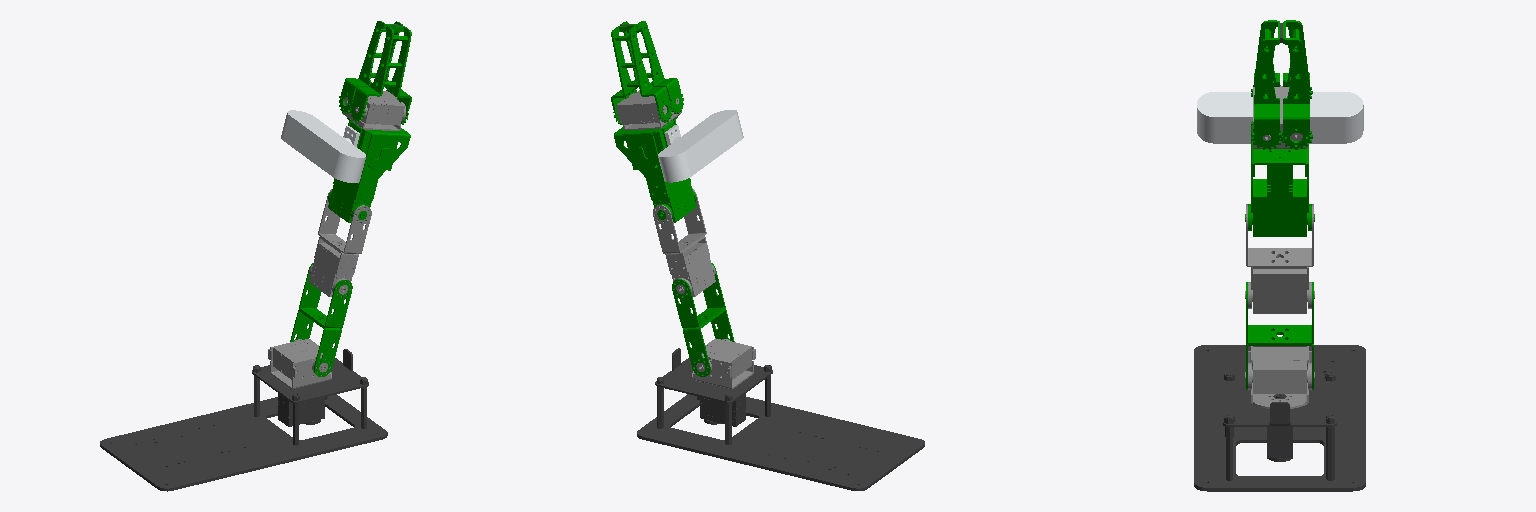
robot.urdf — arm5dof:
<?xml version="1.0" encoding="utf-8"?>
<!-- This URDF was automatically created by SolidWorks to URDF Exporter! Originally created by Stephen Brawner (brawner@gmail.com) 
     Commit Version: 1.6.0-4-g7f85cfe  Build Version: 1.6.7995.38578
     For more information, please see http://wiki.ros.org/sw_urdf_exporter -->
<robot
  name="arm5dof">
  <link
    name="arm_base_link">
    <inertial>
      <origin
        xyz="-0.05549 -1.2443E-05 0.014047"
        rpy="0 0 0" />
      <mass
        value="0.34831" />
      <inertia
        ixx="0.00037734"
        ixy="-1.9667E-07"
        ixz="-5.7059E-07"
        iyy="0.0011827"
        iyz="9.3336E-14"
        izz="0.0015361" />
    </inertial>
    <visual>
      <origin
        xyz="0 0 0"
        rpy="0 0 0" />
      <geometry>
        <mesh
          filename="package://robot_control/meshes/base_link.STL" />
      </geometry>
      <material
        name="black">
        <color
          rgba="0.3 0.3 0.3 1" />
      </material>
    </visual>
    <collision>
      <origin
        xyz="0 0 0"
        rpy="0 0 0" />
      <geometry>
        <mesh
          filename="package://robot_control/meshes/base_link.STL" />
      </geometry>
    </collision>
  </link>
  <link
    name="link1">
    <inertial>
      <origin
        xyz="-0.0098047 1.4097E-06 0.014583"
        rpy="0 0 0" />
      <mass
        value="0.047857" />
      <inertia
        ixx="9.9743E-06"
        ixy="1.2606E-09"
        ixz="5.9862E-07"
        iyy="8.9062E-06"
        iyz="2.193E-09"
        izz="1.4861E-05" />
    </inertial>
    <visual>
      <origin
        xyz="0 0 0"
        rpy="0 0 0" />
      <geometry>
        <mesh
          filename="package://robot_control/meshes/link1.STL" />
      </geometry>
      <material
        name="green">
        <color
          rgba="0.6 0.6 0.6 1" />
      </material>
    </visual>
    <collision>
      <origin
        xyz="0 0 0"
        rpy="0 0 0" />
      <geometry>
        <mesh
          filename="package://robot_control/meshes/link1.STL" />
      </geometry>
    </collision>
  </link>
  <joint
    name="joint_0"
    type="revolute">
    <origin
      xyz="0 0 0.052"
      rpy="0 0 0" />
    <parent
      link="arm_base_link" />
    <child
      link="link1" />
    <axis
      xyz="0 0 1" />
    <limit
      lower="-1.5708"
      upper="1.5708"
      effort="20"
      velocity="3.5" />
  </joint>
    <link
    name="link2">
    <inertial>
      <origin
        xyz="0.04 -5.5511E-17 6.7485E-17"
        rpy="0 0 0" />
      <mass
        value="0.020202" />
      <inertia
        ixx="9.9386E-06"
        ixy="1.7219E-08"
        ixz="-5.3147E-21"
        iyy="1.3724E-05"
        iyz="-1.594E-21"
        izz="5.1826E-06" />
    </inertial>
    <visual>
      <origin
        xyz="0 0 0"
        rpy="0 0 0" />
      <geometry>
        <mesh
          filename="package://robot_control/meshes/link2.STL" />
      </geometry>
      <material
        name="green">
        <color
          rgba="0 0.6 0 1" />
      </material>
    </visual>
    <collision>
      <origin
        xyz="0 0 0"
        rpy="0 0 0" />
      <geometry>
        <mesh
          filename="package://robot_control/meshes/link2.STL" />
      </geometry>
    </collision>
  </link>
  <joint
    name="joint_1"
    type="revolute">
    <origin
      xyz="0 0 0.018"
      rpy="-1.5708 0 0" />
    <parent
      link="link1" />
    <child
      link="link2" />
    <axis
      xyz="0 0 1"
      rpy = "0 0 0" />
    <limit
      lower="-2.3562"
      upper="-0.2269"
      effort="20"
      velocity="3.5" />
  </joint>

  <link
    name="link3">
    <inertial>
      <origin
        xyz="0.019908 0 -6.1294E-06"
        rpy="0 0 0" />
      <mass
        value="0.050927" />
      <inertia
        ixx="1.2573E-05"
        ixy="8.6095E-09"
        ixz="-1.9789E-09"
        iyy="1.7838E-05"
        iyz="3.1614E-20"
        izz="8.6328E-06" />
    </inertial>
    <visual>
      <origin
        xyz="0 0 0"
        rpy="0 0 0" />
      <geometry>
        <mesh
          filename="package://robot_control/meshes/link3.STL" />
      </geometry>
      <material
        name="gray">
        <color
          rgba="0.6 0.6 0.6 1" />
      </material>
    </visual>
    <collision>
      <origin
        xyz="0 0 0"
        rpy="0 0 0" />
      <geometry>
        <mesh
          filename="package://robot_control/meshes/link3.STL" />
      </geometry>
    </collision>
  </link>
  <joint
    name="joint_2"
    type="revolute">
    <origin
      xyz="0.08 0 0"
      rpy="0 0 0" />
    <parent
      link="link2" />
    <child
      link="link3" />
    <axis
      xyz="0 0 1" />
    <limit
      lower="-0.7854"
      upper="1.5708"
      effort="20"
      velocity="3.5" />
  </joint>
  <link
    name="link4">
    <inertial>
      <origin
        xyz="0.042216 0.0041806 -3.2915E-06"
        rpy="0 0 0" />
      <mass
        value="0.094835" />
      <inertia
        ixx="2.4341E-05"
        ixy="-2.5244E-06"
        ixz="-1.9789E-09"
        iyy="3.3312E-05"
        iyz="1.4436E-20"
        izz="3.0737E-05" />
    </inertial>
    <visual>
      <origin
        xyz="0 0 0"
        rpy="0 0 0" />
      <geometry>
        <mesh
          filename="package://robot_control/meshes/link4.STL" />
      </geometry>
      <material
        name="green">
        <color
          rgba="0 0.6 0 1" />
      </material>
    </visual>
    <collision>
      <origin
        xyz="0 0 0"
        rpy="0 0 0" />
      <geometry>
        <mesh
          filename="package://robot_control/meshes/link4.STL" />
      </geometry>
    </collision>
  </link>
  <joint
    name="joint_3"
    type="revolute">
    <origin
      xyz="0.07615 0 0"
      rpy="0 0 0" />
    <parent
      link="link3" />
    <child
      link="link4" />
    <axis
      xyz="0 0 1"
      rpy = "0 0 0" />
    <limit
      lower="-1.5708"
      upper="2.26893"
      effort="20"
      velocity="3.5" />
  </joint>
  <link
    name="link5">
    <inertial>
      <origin
        xyz="-8.2184E-06 -0.0011968 0.01386"
        rpy="0 0 0" />
      <mass
        value="0.049124" />
      <inertia
        ixx="8.2684E-06"
        ixy="2.2759E-09"
        ixz="5.1987E-11"
        iyy="1.1645E-05"
        iyz="5.9116E-07"
        izz="1.5458E-05" />
    </inertial>
    <visual>
      <origin
        xyz="0 0 0"
        rpy="0 0 0" />
      <geometry>
        <mesh
          filename="package://robot_control/meshes/link5.STL" />
      </geometry>
      <material
        name="gray">
        <color
          rgba="0.6 0.6 0.6 1" />
      </material>
    </visual>
    <collision>
      <origin
        xyz="0 0 0"
        rpy="0 0 0" />
      <geometry>
        <mesh
          filename="package://robot_control/meshes/link5.STL" />
      </geometry>
    </collision>
  </link>
<joint
    name="joint_4"
    type="revolute">
    <origin
      xyz="0.0854 0 0"
      rpy="-1.57079632679489 8.79419361882729E-05 -1.5707963267949" />
    <parent
      link="link4" />
    <child
      link="link5" />
    <axis
      xyz="0 0 1" />
    <limit
      lower="-1.5708"
      upper="1.5708"
      effort="20"
      velocity="3.5" />
  </joint>
  <link
    name="left_gripper_link">
    <inertial>
      <origin
        xyz="0.035118 0.00016366 5.5511E-17"
        rpy="0 0 0" />
      <mass
        value="0.024589" />
      <inertia
        ixx="1.611E-06"
        ixy="2.5381E-07"
        ixz="1.1103E-20"
        iyy="1.2951E-05"
        iyz="-2.2806E-22"
        izz="1.2364E-05" />
    </inertial>
    <visual>
      <origin
        xyz="0 0 0"
        rpy="0 0 0" />
      <geometry>
        <mesh
          filename="package://robot_control/meshes/left_gripper_link.STL" />
      </geometry>
      <material
        name="green">
        <color
          rgba="0 0.6 0 1" />
      </material>
    </visual>
    <collision>
      <origin
        xyz="0 0 0"
        rpy="0 0 0" />
      <geometry>
        <mesh
          filename="package://robot_control/meshes/left_gripper_link.STL" />
      </geometry>
    </collision>
  </link>
  <joint
    name="left_gripper_joint"
    type="revolute">
    <origin
      xyz="0 0.00965 0.016"
      rpy="8.7942E-05 -1.5708 0" />
    <parent
      link="link5" />
    <child
      link="left_gripper_link" />
    <axis
      xyz="0 0 1" />
    <limit
      lower="0"
      upper="1.5708"
      effort="20"
      velocity="3.5" />
  </joint>
  <link
    name="left_rubber_pad_link">
    <inertial>
      <origin
        xyz="-5.5511E-17 0.0005 0"
        rpy="0 0 0" />
      <mass
        value="8.5E-05" />
      <inertia
        ixx="2.0542E-09"
        ixy="-5.8301E-25"
        ixz="-4.0091E-24"
        iyy="2.2242E-09"
        iyz="2.0909E-27"
        izz="1.8417E-10" />
    </inertial>
    <visual>
      <origin
        xyz="0 0 0"
        rpy="0 0 0" />
      <geometry>
        <mesh
          filename="package://robot_control/meshes/left_rubber_pad_link.STL" />
      </geometry>
      <material
        name="rubber">
        <color
          rgba="0.29804 0.29804 0.29804 1" />
      </material>
    </visual>
    <collision>
      <origin
        xyz="0 0 0"
        rpy="0 0 0" />
      <geometry>
        <mesh
          filename="package://robot_control/meshes/left_rubber_pad_link.STL" />
      </geometry>
    </collision>
  </link>
  <joint
    name="left_rubber_pad_joint"
    type="fixed">
    <origin
      xyz="0.0810000000000007 -0.0109999999999981 0"
      rpy="0 0 0" />
    <parent
      link="left_gripper_link" />
    <child
      link="left_rubber_pad_link" />
    <axis
      xyz="0 0 0" />
  </joint>
  <link
    name="right_gripper_link">
    <inertial>
      <origin
        xyz="0.036355 -0.00017366 -4.996E-16"
        rpy="0 0 0" />
      <mass
        value="0.023734" />
      <inertia
        ixx="1.5331E-06"
        ixy="-2.5364E-07"
        ixz="-1.9986E-21"
        iyy="1.2074E-05"
        iyz="7.3824E-23"
        izz="1.1549E-05" />
    </inertial>
    <visual>
      <origin
        xyz="0 0 0"
        rpy="0 0 0" />
      <geometry>
        <mesh
          filename="package://robot_control/meshes/right_gripper_link.STL" />
      </geometry>
      <material
        name="green">
        <color
          rgba="0 0.6 0 1" />
      </material>
    </visual>
    <collision>
      <origin
        xyz="0 0 0"
        rpy="0 0 0" />
      <geometry>
        <mesh
          filename="package://robot_control/meshes/right_gripper_link.STL" />
      </geometry>
    </collision>
  </link>
  <joint
    name="right_gripper_joint"
    type="revolute">
    <origin
      xyz="0 -0.0123499997975674 0.016"
      rpy="8.79419382699738E-05 -1.5707963267949 0" />
    <parent
      link="link5" />
    <child
      link="right_gripper_link" />
    <axis
      xyz="0 0 1" />
    <limit
      lower="-1.5708"
      upper="0"
      effort="20"
      velocity="3.5" />
    <mimic
      joint="left_gripper_joint"
      multiplier="-1"
      offset="0" />
  </joint>
  <link
    name="right_rubber_pad_link">
    <inertial>
      <origin
        xyz="3.3307E-16 -0.0005 -2.6507E-15"
        rpy="0 0 0" />
      <mass
        value="8.5E-05" />
      <inertia
        ixx="2.0542E-09"
        ixy="-8.9622E-25"
        ixz="1.5346E-24"
        iyy="2.2242E-09"
        iyz="3.0737E-27"
        izz="1.8417E-10" />
    </inertial>
    <visual>
      <origin
        xyz="0 0 0"
        rpy="0 0 0" />
      <geometry>
        <mesh
          filename="package://robot_control/meshes/right_rubber_pad_link.STL" />
      </geometry>
      <material
        name="rubber">
        <color
          rgba="0.29804 0.29804 0.29804 1" />
      </material>
    </visual>
    <collision>
      <origin
        xyz="0 0 0"
        rpy="0 0 0" />
      <geometry>
        <mesh
          filename="package://robot_control/meshes/right_rubber_pad_link.STL" />
      </geometry>
    </collision>
  </link>
  <joint
    name="right_rubber_pad_joint"
    type="fixed">
    <origin
      xyz="0.081 0.011 0"
      rpy="0 0 0" />
    <parent
      link="right_gripper_link" />
    <child
      link="right_rubber_pad_link" />
    <axis
      xyz="0 0 0" />
  </joint>
  <link
    name="camera_link">
    <inertial>
        <!--0.012507582644275 0.000732174960914142 -0.0180019906281733-->
      <origin
        xyz="0 0 0"
        rpy="0 0 0" />
      <mass
        value="0.182214459073633" />
      <inertia
        ixx="3.36907557025265E-05"
        ixy="5.37491052812001E-09"
        ixz="-2.59991125882536E-08"
        iyy="0.000396547856460873"
        iyz="-6.17675676299939E-08"
        izz="0.000390144942272885" />
    </inertial>
    <visual>
      <origin
        xyz="0 0 0"
        rpy="0 0 0" />
      <geometry>
        <mesh
          filename="package://robot_control/meshes/camera_mount_mesh.stl" 
          scale="0.001 0.001 0.001" />
      </geometry>
      <material
        name="">
        <color
          rgba="0.898039215686275 0.917647058823529 0.929411764705882 1" />
      </material>
    </visual>
    <collision>
      <origin
        xyz="0 0 0"
        rpy="0 0 0" />
      <geometry>
        <mesh
          filename="package://robot_control/meshes/camera_mount_mesh.stl" 
          scale="0.001 0.001 0.001" />
      </geometry>
    </collision>
  </link>
  <joint
    name="camera_joint"
    type="fixed">
    <origin
      xyz="0.0584 -0.0455 0.0001"
      rpy="1.570796 0 0" />
    <parent
      link="link4" />
    <child
      link="camera_link" />
    <axis
      xyz="0 0 0" />
  </joint>
  <link
    name="ee_link">
  </link>
  <joint
    name="ee_joint"
    type="fixed">
    <parent link= "link5"/>
    <child link= "ee_link"/>
    <origin xyz= "0.000 0 0.07" rpy="0 0 0"/>
  </joint>  
</robot>

--- What the picture shows (computed from the rendered views, not written in the file) ---
3 views of the same robot in one strip: view 1: azimuth 30°, elevation 25°; view 2: azimuth 150°, elevation 25°; view 3: azimuth 270°, elevation 25° (orthographic).
Model arm5dof with 12 links and 11 joints (7 revolute, 4 fixed), rooted at arm_base_link, posed joints at zero except 1 at the middle of their limits (joint_1 = -1.29).
Visible links, largest first — view 1: arm_base_link, camera_link, link4, link3, link2, link1, left_gripper_link, link5, right_gripper_link; view 2: arm_base_link, camera_link, link4, link3, link2, link1, right_gripper_link, link5, left_gripper_link; view 3: arm_base_link, camera_link, link4, link3, link1, right_gripper_link, left_gripper_link, link2, link5.
Boxes of the visible links, bbox=[...] form: arm_base_link: bbox=[100, 349, 387, 491]; camera_link: bbox=[281, 110, 365, 182]; link4: bbox=[328, 117, 410, 222]; link3: bbox=[309, 189, 371, 296]; link2: bbox=[290, 263, 352, 376]; link1: bbox=[268, 339, 331, 389]; left_gripper_link: bbox=[350, 25, 411, 124]; link5: bbox=[342, 91, 405, 130]; right_gripper_link: bbox=[339, 21, 402, 113]; arm_base_link: bbox=[637, 348, 924, 490]; camera_link: bbox=[658, 110, 743, 182]; link4: bbox=[614, 116, 696, 222]; link3: bbox=[653, 188, 715, 296]; link2: bbox=[672, 263, 734, 376]; link1: bbox=[692, 338, 755, 388]; right_gripper_link: bbox=[611, 25, 672, 124]; link5: bbox=[616, 90, 681, 130]; left_gripper_link: bbox=[620, 21, 683, 113]; arm_base_link: bbox=[1194, 345, 1365, 491]; camera_link: bbox=[1197, 92, 1363, 143]; link4: bbox=[1245, 121, 1314, 236]; link3: bbox=[1245, 204, 1314, 313]; link1: bbox=[1245, 346, 1314, 408]; right_gripper_link: bbox=[1280, 20, 1312, 149]; left_gripper_link: bbox=[1251, 20, 1282, 149]; link2: bbox=[1246, 282, 1313, 389]; link5: bbox=[1253, 86, 1306, 148].
Bounding box of the posed robot: 0.3041 × 0.128 × 0.4009 m (x, y, z).
Meshes: 11 distinct files referenced, 11 mesh visuals loaded (11 binary STL).
